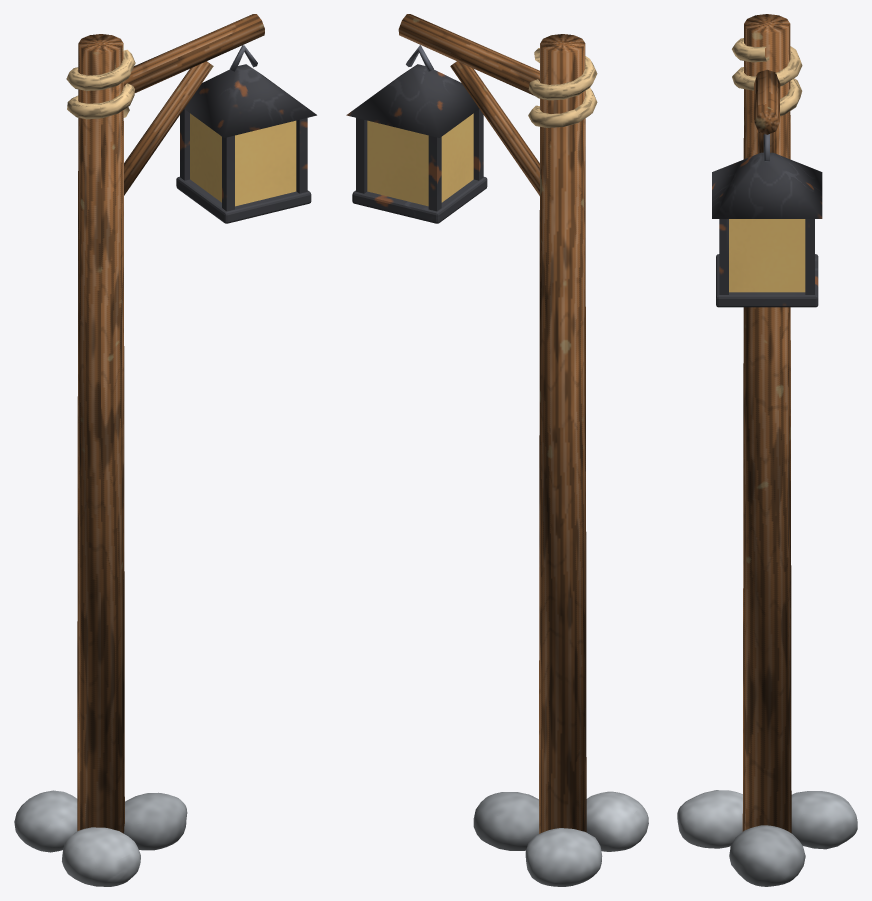
The model's file is lantern_post.glb.
3 views of the same model, side by side, from view 1: azimuth 30°, elevation 25°; view 2: azimuth 150°, elevation 25°; view 3: azimuth 270°, elevation 25° (orthographic). The views are drawn at different scales.
Parts seen in each view (by area): view 1: LanternPost; view 2: LanternPost; view 3: LanternPost.
Boxes of the visible parts, x1=… form: LanternPost: x1=14, y1=14, x2=316, y2=886; LanternPost: x1=346, y1=14, x2=648, y2=886; LanternPost: x1=677, y1=14, x2=857, y2=886.
Size of the model in its own units: 0.6614 by 2.07 by 0.4071.
Materials: 1 (1 with a texture image).
